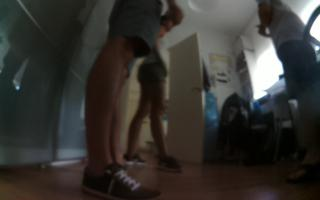person: (81, 1, 187, 200), (254, 1, 319, 190), (120, 12, 184, 175)
